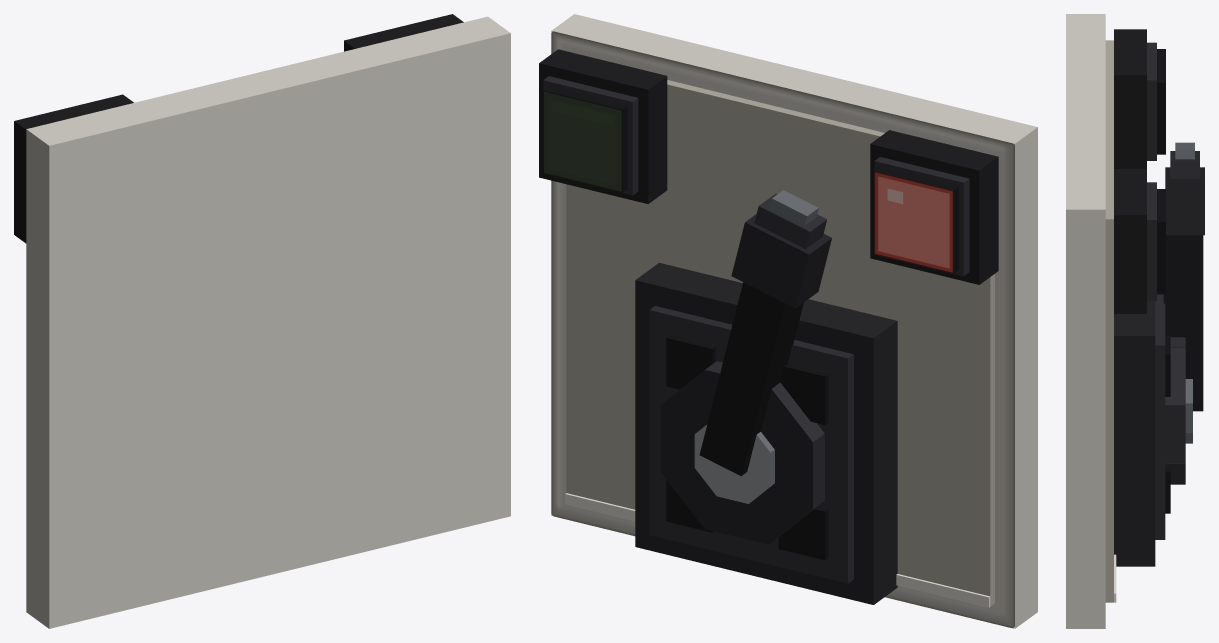
File: lever_switch_close.obj
The picture shows the model from 3 angles, left to right: view 1: azimuth 30°, elevation 25°; view 2: azimuth 150°, elevation 25°; view 3: azimuth 270°, elevation 25°; orthographic projection. The views are drawn at different scales.
Visible parts, largest first — view 1: Panel, LampRed, LampGreen; view 2: Panel, Base, Lever, LampGreen, LampRed; view 3: Panel, Base, Lever, LampGreen, LampRed.
Boxes of the visible parts, x1,y1,x2,y2 form: Panel: [26, 16, 510, 628]; LampRed: [14, 94, 133, 243]; LampGreen: [344, 14, 463, 51]; Panel: [551, 14, 1037, 628]; Base: [635, 262, 897, 604]; Lever: [699, 190, 831, 476]; LampGreen: [539, 49, 667, 203]; LampRed: [870, 130, 998, 284]; Panel: [1066, 14, 1116, 628]; Base: [1114, 294, 1192, 566]; Lever: [1163, 142, 1204, 411]; LampGreen: [1114, 169, 1165, 313]; LampRed: [1114, 29, 1165, 168].
Bounding box in the file's own units: 0.875 × 0.875 × 0.2625.
1 material, 1 textured.
